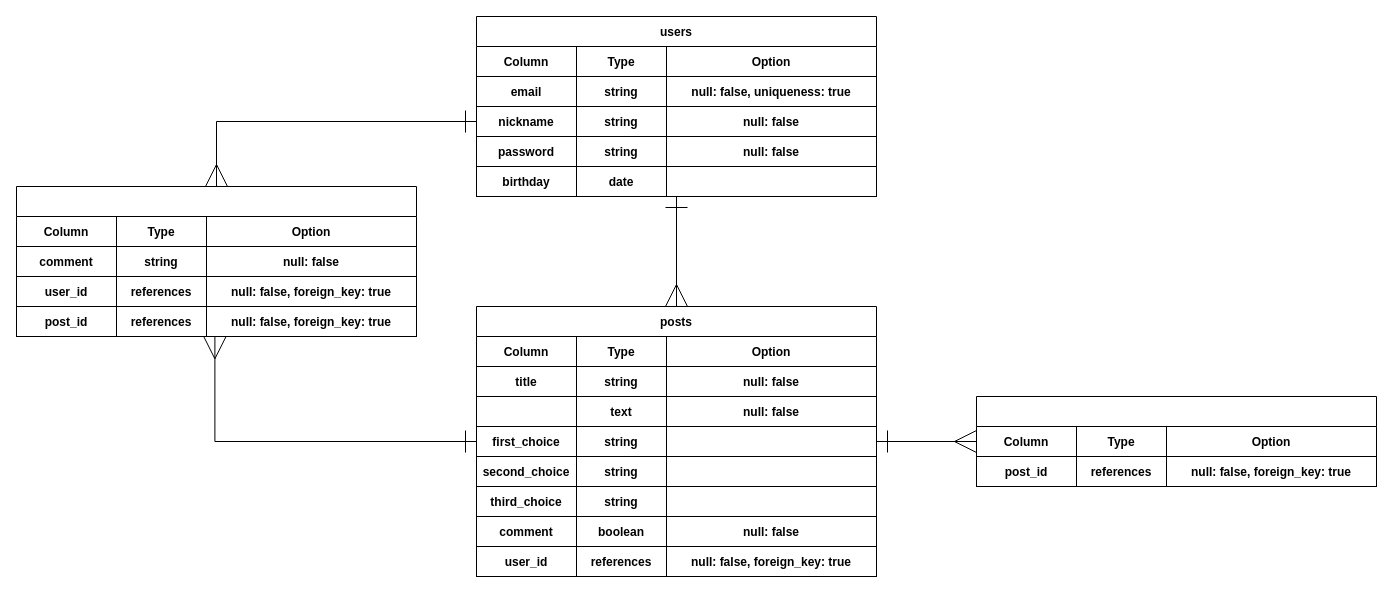
The diagram is 1393 pixels wide and 593 high, and some of its shapes have lost their labels. The box of each missing label's shape, as (x1, y1, x2, y2) in pixels:
comments: (16, 186, 416, 336)
likes: (976, 396, 1376, 486)
